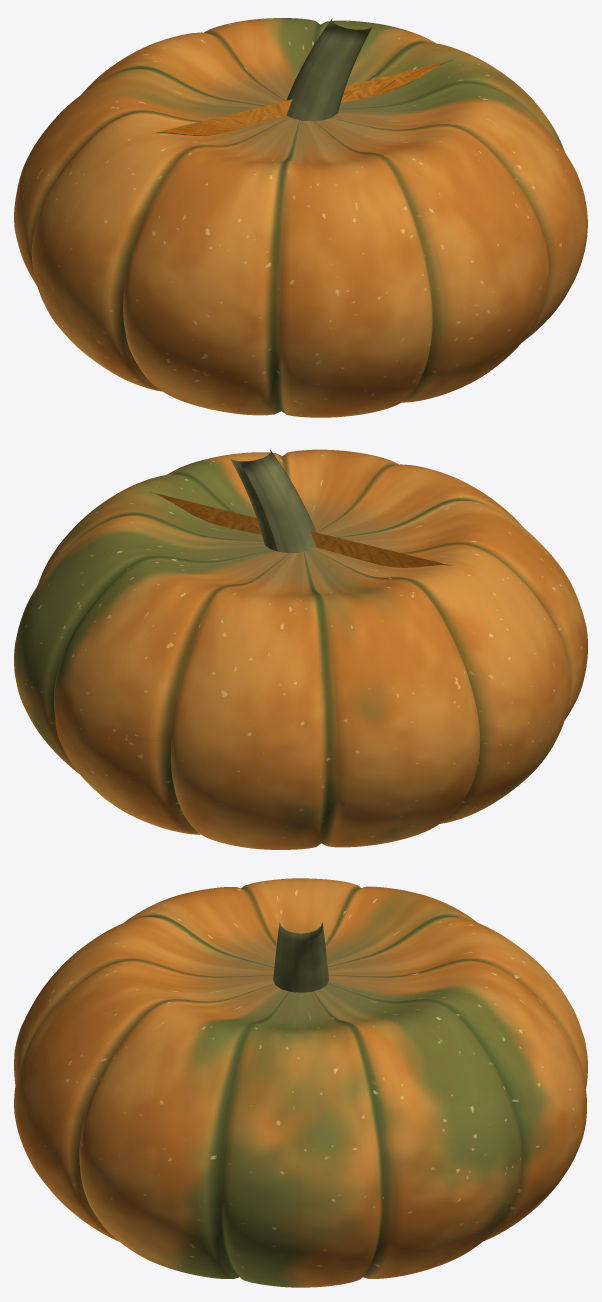
File: citrouille.glb
The picture shows the model from 3 angles, top to bottom: view 1: azimuth 30°, elevation 25°; view 2: azimuth 150°, elevation 25°; view 3: azimuth 270°, elevation 25°; orthographic projection.
Visible parts, largest first — view 1: entier_peau, moitie_A_peau, moitie_B_peau, entier_extra0, moitie_A_chair, moitie_B_chair; view 2: entier_peau, moitie_B_peau, moitie_A_peau, entier_extra0, moitie_A_chair, moitie_B_chair; view 3: entier_peau, moitie_B_peau, moitie_A_peau, entier_extra0.
Part boxes in pixels (x1,y1,x2,y2): entier_peau: (14,18,587,417); moitie_A_peau: (52,58,587,417); moitie_B_peau: (14,18,490,352); entier_extra0: (286,18,372,121); moitie_A_chair: (152,60,452,135); moitie_B_chair: (151,65,440,135); entier_peau: (14,449,587,849); moitie_B_peau: (14,491,547,849); moitie_A_peau: (106,450,587,787); entier_extra0: (230,450,316,553); moitie_A_chair: (150,492,452,567); moitie_B_chair: (156,493,442,567); entier_peau: (14,878,587,1287); moitie_B_peau: (301,878,587,1287); moitie_A_peau: (14,878,300,1287); entier_extra0: (273,922,328,992).
Bounding box in the file's own units: 0.3002 × 0.1756 × 0.2943.
Materials: 3 (3 with a texture image).
